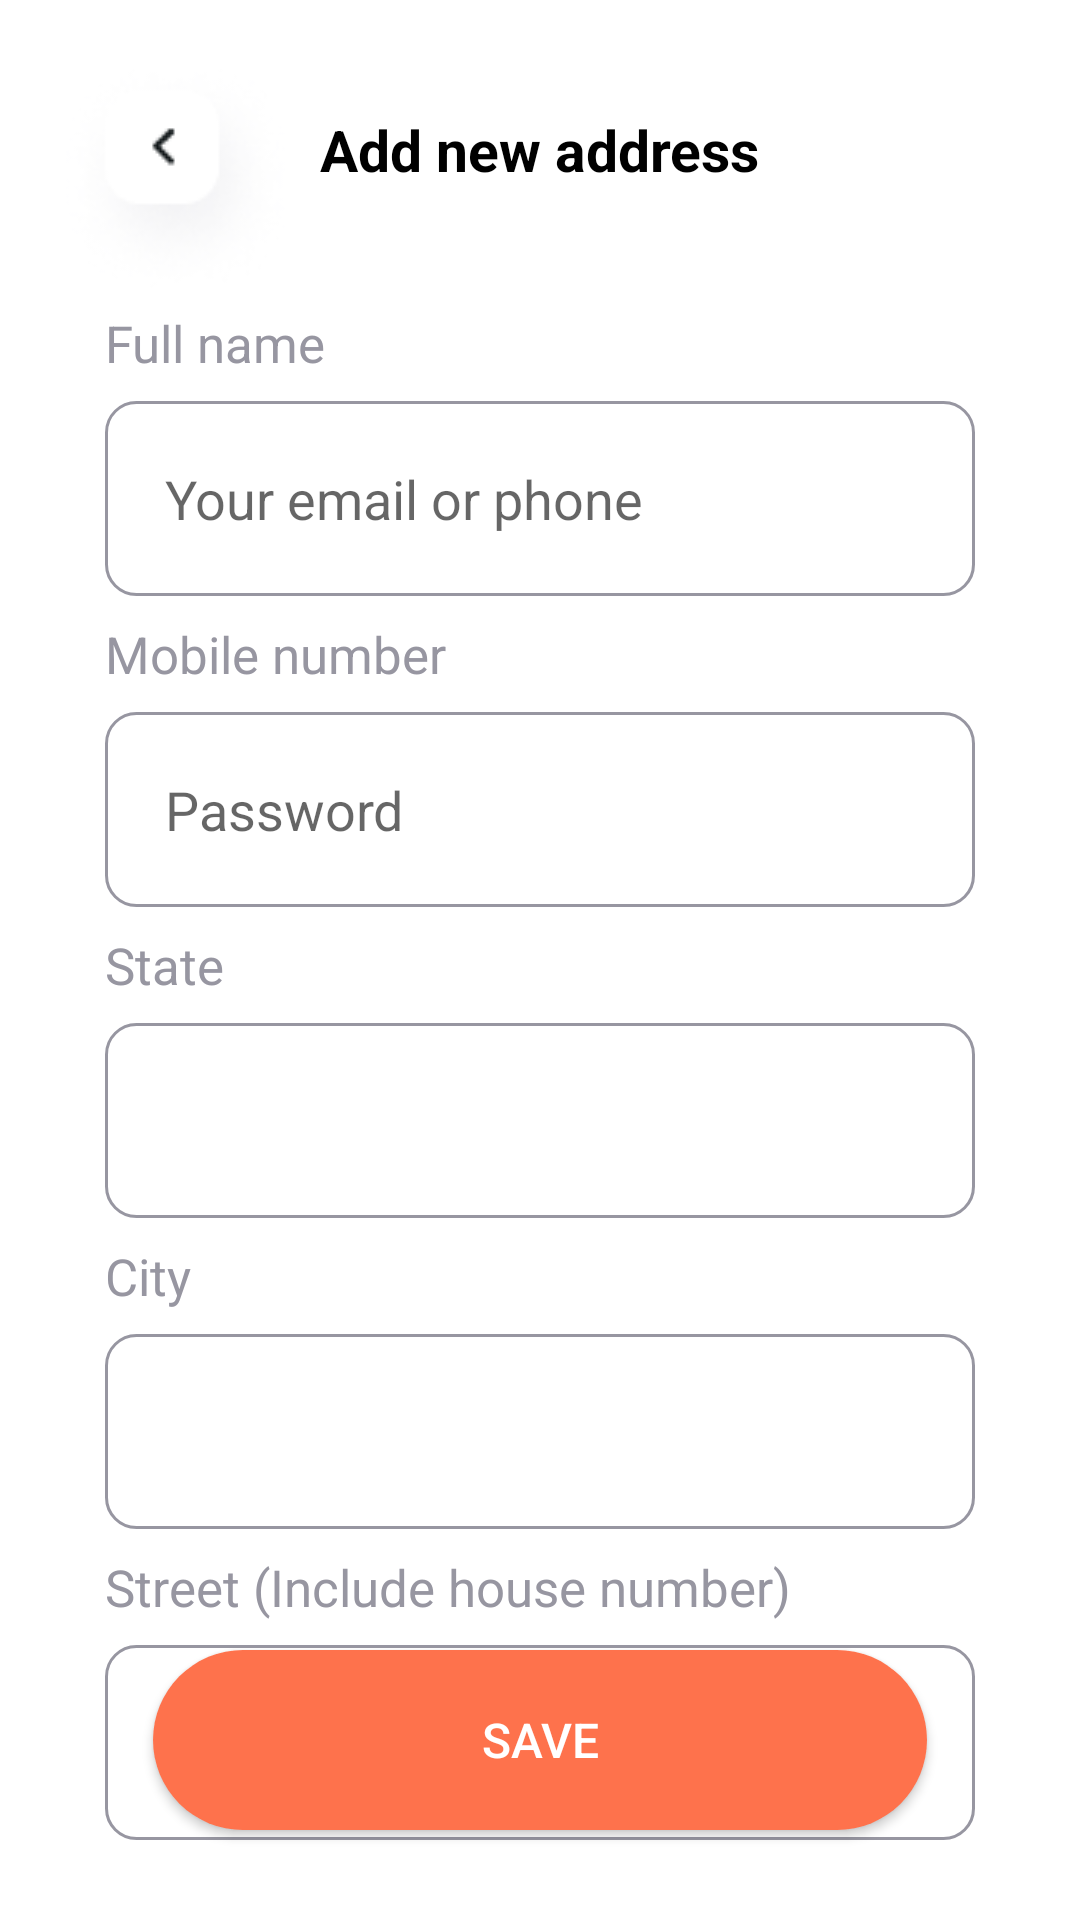

Where to tap for icons on this 1080px x 1920px app screen, as (x,y):
backbtn: (163,147)
